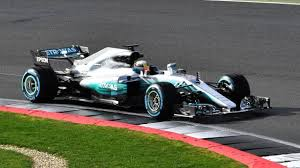f1_car: (17, 37, 287, 133)
